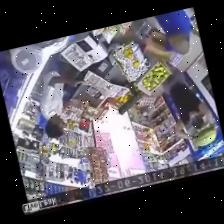person: (163, 62, 213, 138), (40, 53, 82, 137), (146, 10, 192, 58)
